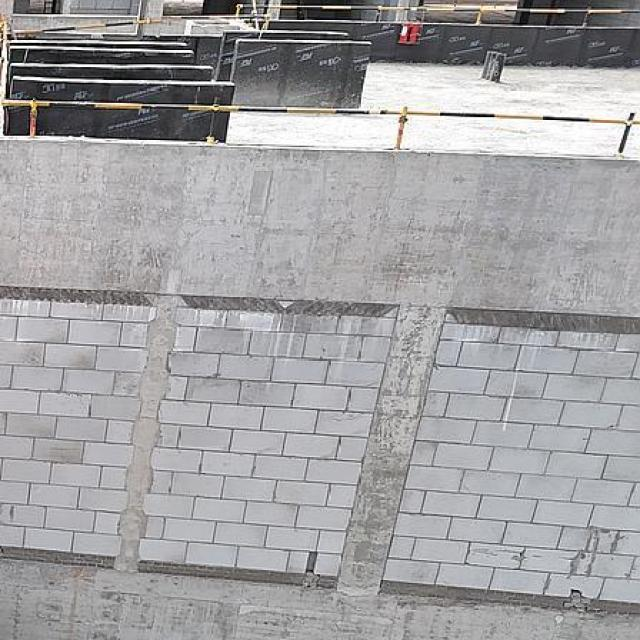edge_guardrail: (1, 97, 640, 154), (234, 3, 640, 28), (38, 18, 162, 32)
